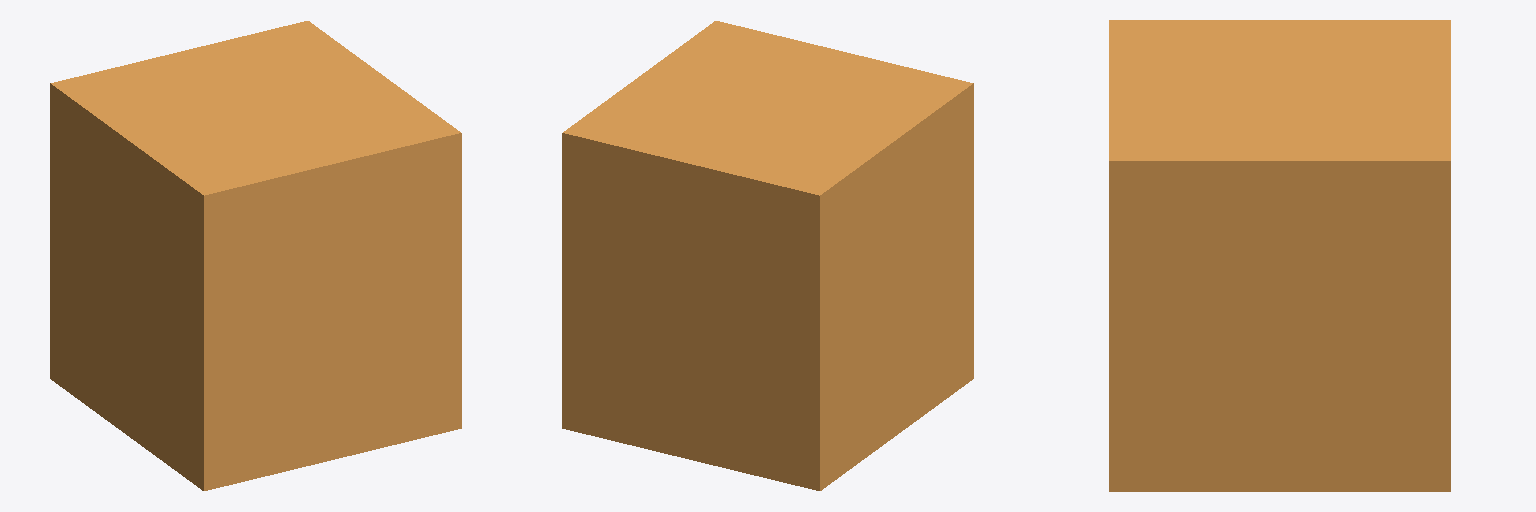
URDF robot description (cabinetupper_filler):
<?xml version="1.0"?>
<robot name="cabinetupper_filler">
    <material name="color">
        <color rgba="0.937 0.69 0.392 1"/>
    </material>
    <link name="base">
        <collision name="box_collision">
          <geometry>
            <box size="0.701 0.723 0.769"/>
          </geometry>
        </collision>
        <visual name="box_visual">
    			<origin xyz="0 0 0" rpy="0 0 0"/>
          <material name="color"/>
          <geometry>
            <box size="0.701 0.723 0.769"/>
          </geometry>
        </visual>
      </link>
      <inertial>
			<mass value="0.3"/>
			<inertia ixx="0.6" ixy="0.0" ixz="0.0" iyy="0.5" iyz="-0.0" izz="0.08"/>
		</inertial>
</robot>

--- Facts derived from the render (not from the file) ---
3 views of the same robot in one strip: view 1: azimuth 30°, elevation 25°; view 2: azimuth 150°, elevation 25°; view 3: azimuth 270°, elevation 25° (orthographic).
Model cabinetupper_filler with 1 links and 0 joints (none), rooted at base, posed all joints at 0.
Visible links, largest first — view 1: base; view 2: base; view 3: base.
Link boxes in pixels (x1,y1,x2,y2): base: [50, 21, 461, 490]; base: [562, 21, 973, 490]; base: [1109, 20, 1450, 491].
Size in the robot's own frame: 0.701 by 0.723 by 0.769 metres.
Geometry: primitives only (box / cylinder / sphere), no mesh files.